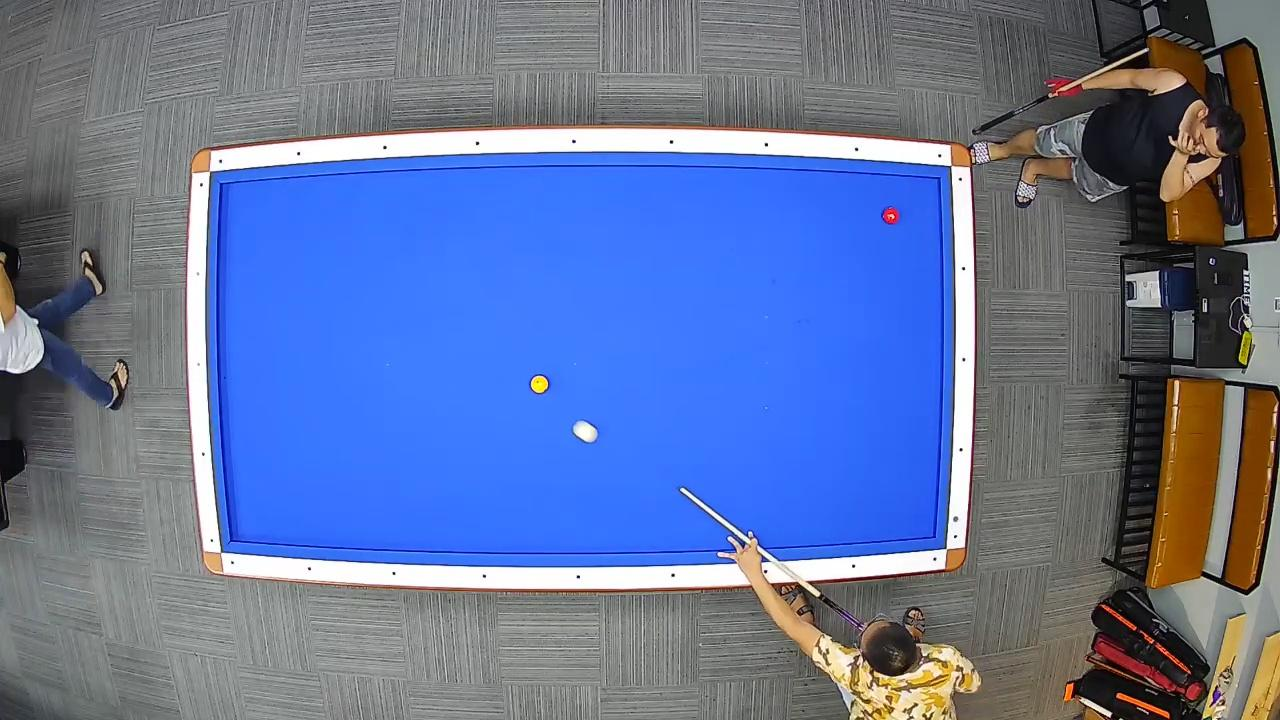Red: (882, 205, 902, 226)
White: (572, 418, 598, 444)
Yellow: (530, 372, 550, 394)
